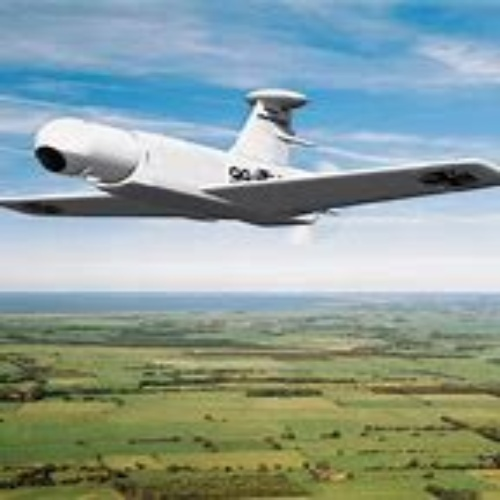uav: (1, 87, 500, 229)
